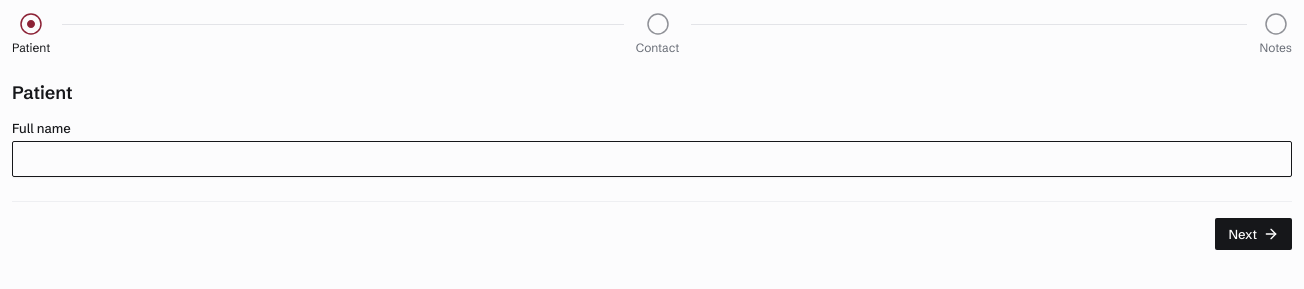
Scenario: FormWizard submit integrity › runs the last step's own schema before submitting
Type "Sara" into the field labelled "Full name". click: (652,159)
box: x1=12 y1=141 x2=1292 y2=177
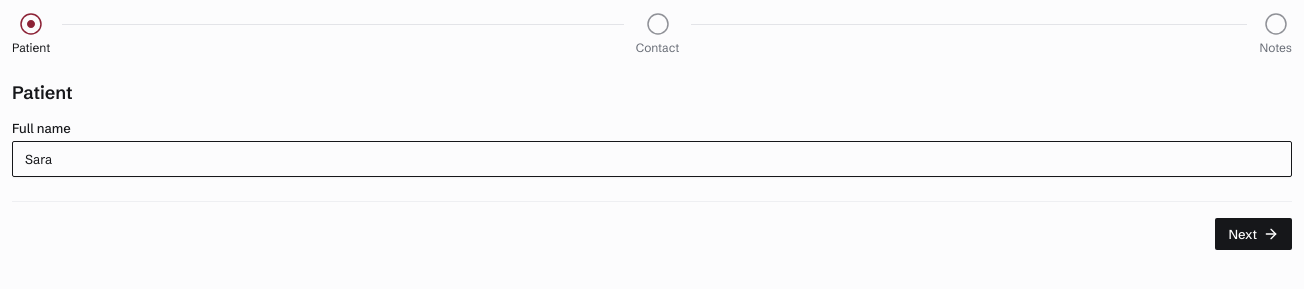
Click the button named "Next". click: (1254,234)
box: x1=1215 y1=218 x2=1292 y2=250
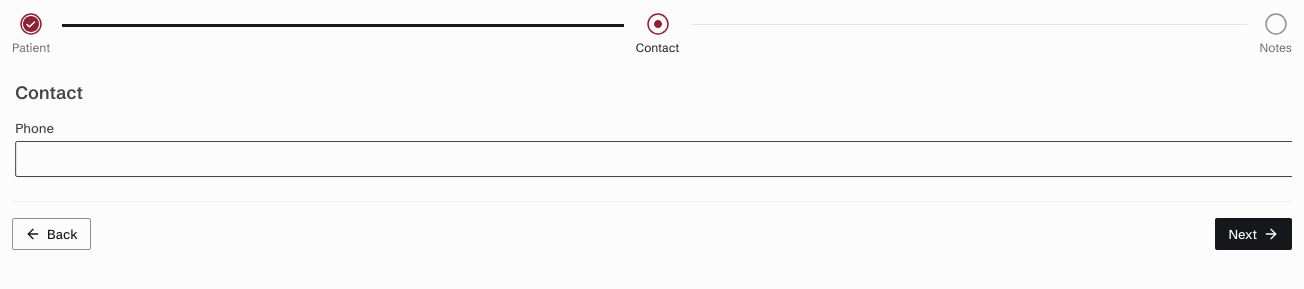
Expected: the heading "Contact" is shown, x1=15 y1=80 x2=83 y2=106
Click the 2nd button named "Next". click: (1254,234)
box: x1=1215 y1=218 x2=1292 y2=250
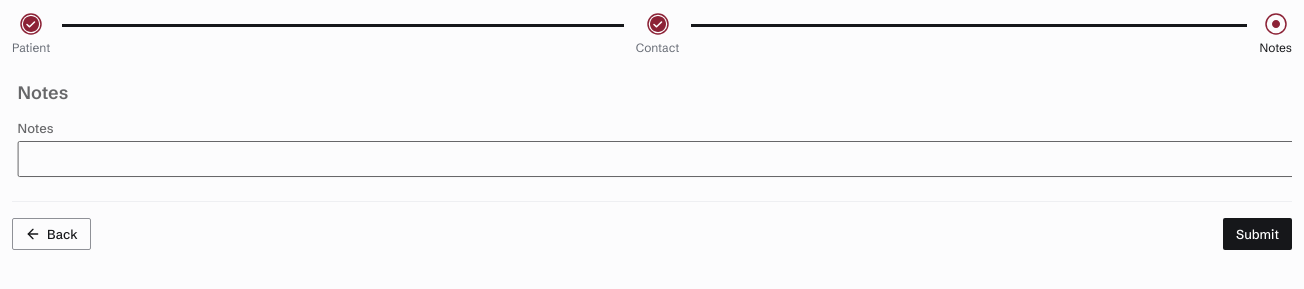
Expected: the heading "Notes" is shown, x1=18 y1=80 x2=68 y2=106
Click the 2nd button named "Submit". click: (1258,234)
box: x1=1223 y1=218 x2=1292 y2=250
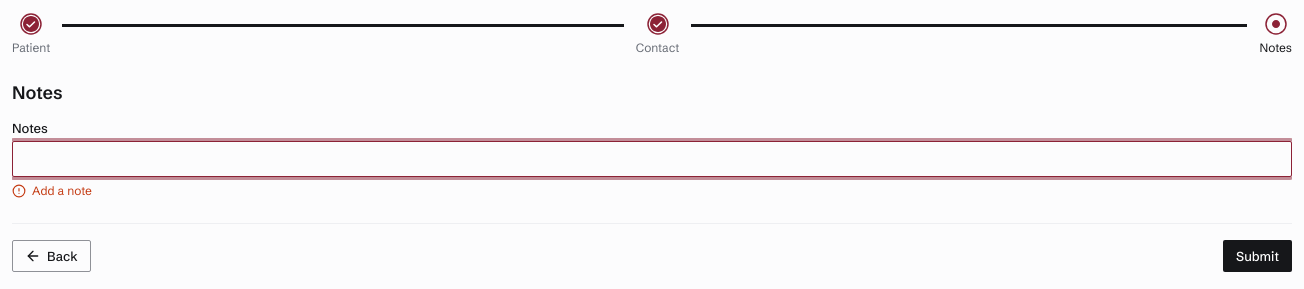
Now the text "Add a note" is shown, box x1=32 y1=183 x2=92 y2=199
